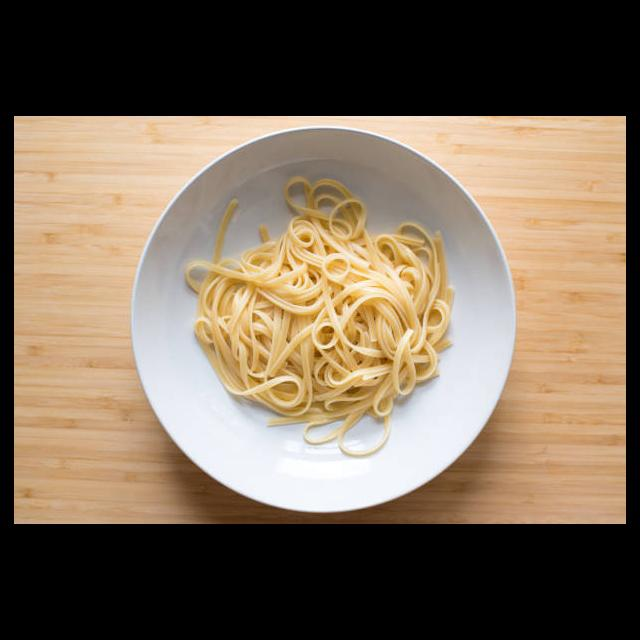noodles: (183, 178, 458, 457)
